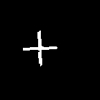single_crochet: (23, 31, 56, 65)
